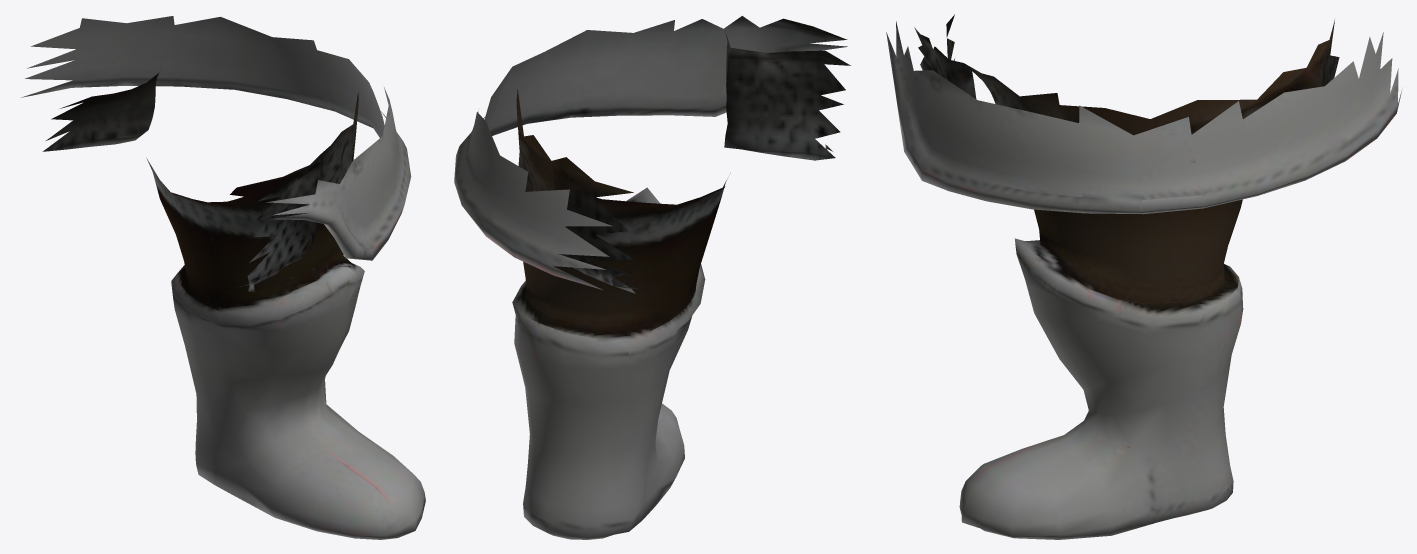
The model's file is knight-legL.glb.
The picture shows the model from 3 angles, left to right: view 1: azimuth 30°, elevation 25°; view 2: azimuth 150°, elevation 25°; view 3: azimuth 270°, elevation 25°; orthographic projection. The views are drawn at different scales.
Parts seen in each view (by area): view 1: knight-legL; view 2: knight-legL; view 3: knight-legL.
Boxes of the visible parts, x1=… form: knight-legL: x1=20, y1=16, x2=425, y2=539; knight-legL: x1=454, y1=16, x2=850, y2=539; knight-legL: x1=886, y1=14, x2=1402, y2=539.
Bounding box in the file's own units: 0.2251 × 0.3321 × 0.3623.
1 material, 1 textured.
